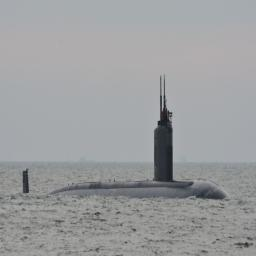submarine: (24, 123, 232, 197)
